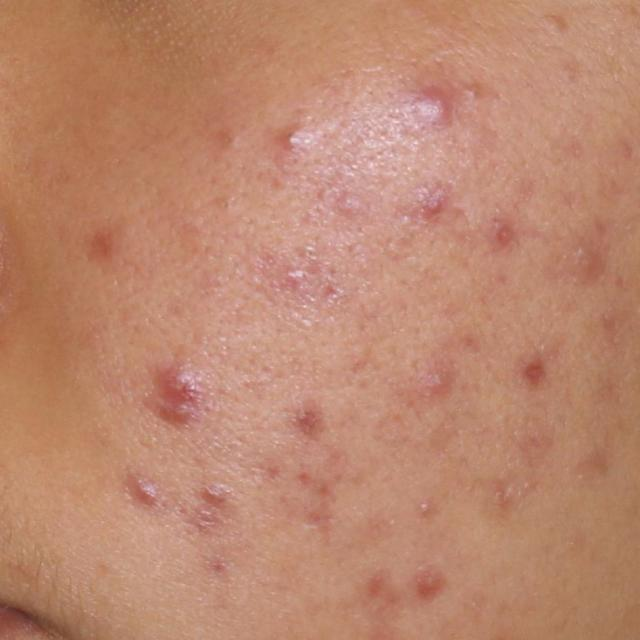nodule: (413, 93, 454, 129), (157, 368, 198, 402), (138, 481, 158, 504)
